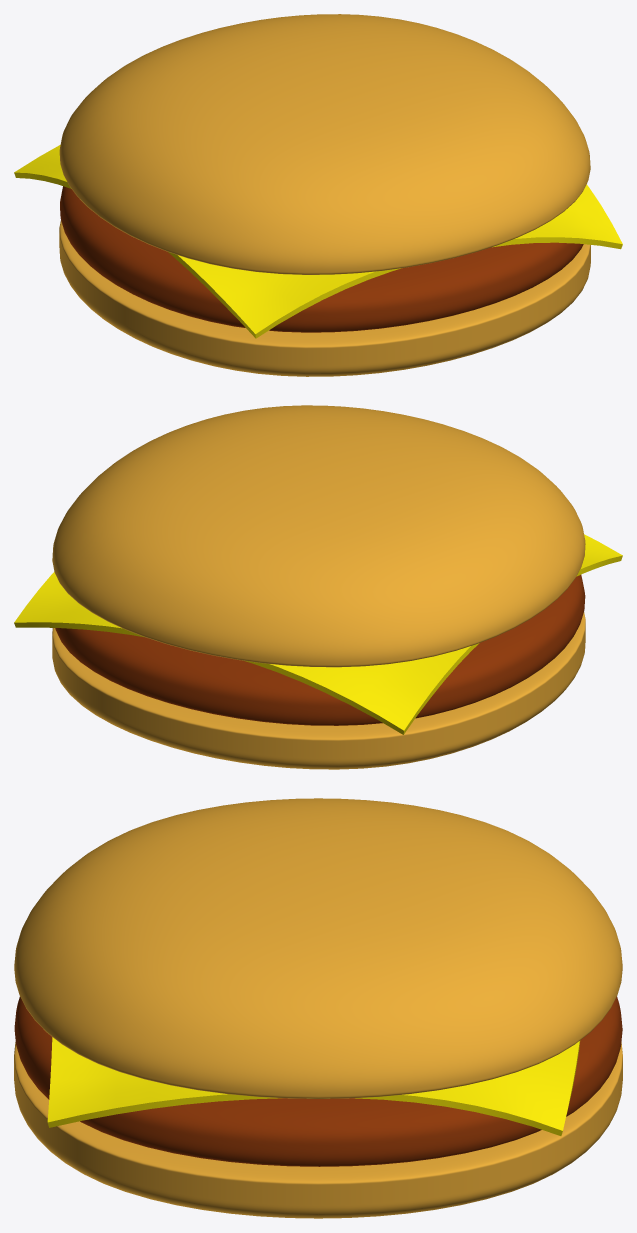
Rendered from burger.glb.
3 renders of one model, top to bottom at view 1: azimuth 30°, elevation 25°; view 2: azimuth 150°, elevation 25°; view 3: azimuth 270°, elevation 25°, orthographic. The views are drawn at different scales.
Visible parts, largest first — view 1: Cube.002, Cube, Cube.001, Plane; view 2: Cube.002, Cube, Cube.001, Plane; view 3: Cube.002, Cube, Cube.001, Plane.
Boxes of the visible parts, x1,y1,x2,y2 form: Cube.002: (59,14,590,274); Cube: (59,220,590,376); Cube.001: (60,186,583,332); Plane: (14,145,622,338); Cube.002: (52,405,585,667); Cube: (52,612,585,769); Cube.001: (55,575,585,725); Plane: (14,534,622,734); Cube.002: (14,798,622,1098); Cube: (14,1042,622,1218); Cube.001: (14,997,622,1166); Plane: (47,1037,580,1135).
Size of the model in its own units: 6.86 by 3.09 by 6.86.
